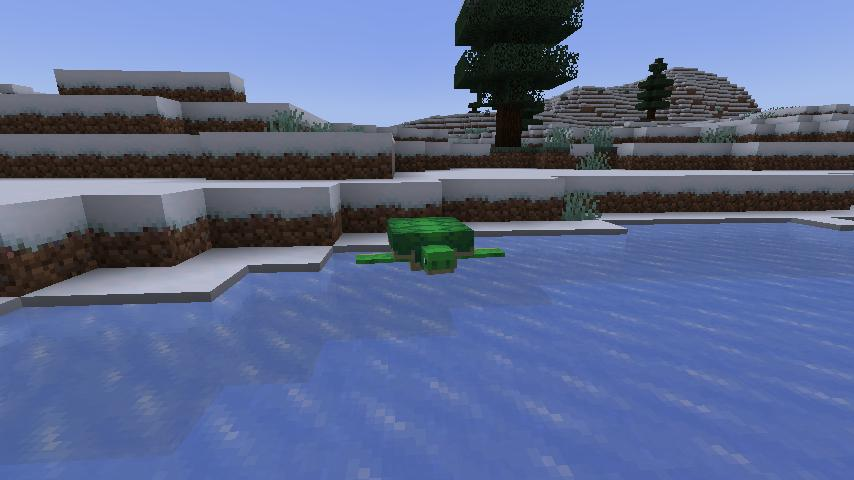turtle: (354, 211, 509, 277)
